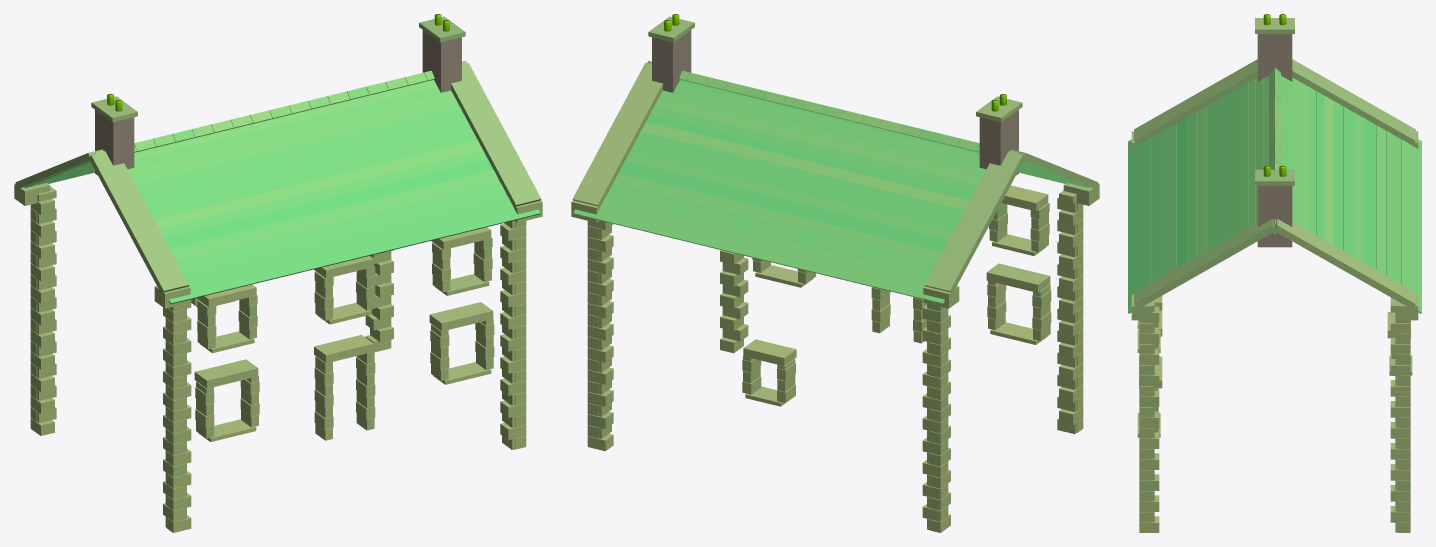
Rendered from SM_Bld_022_Stone.glb.
3 renders of one model, left to right at view 1: azimuth 30°, elevation 25°; view 2: azimuth 150°, elevation 25°; view 3: azimuth 270°, elevation 25°, orthographic. The views are drawn at different scales.
Visible parts, largest first — view 1: SM_Bld_022_Stone; view 2: SM_Bld_022_Stone; view 3: SM_Bld_022_Stone.
Boxes of the visible parts, left/top/right/bottom form: SM_Bld_022_Stone: left=14, top=14, right=542, bottom=532; SM_Bld_022_Stone: left=571, top=14, right=1099, bottom=532; SM_Bld_022_Stone: left=1128, top=14, right=1421, bottom=532.
Size of the model in its own units: 10.72 by 10.29 by 7.61.
